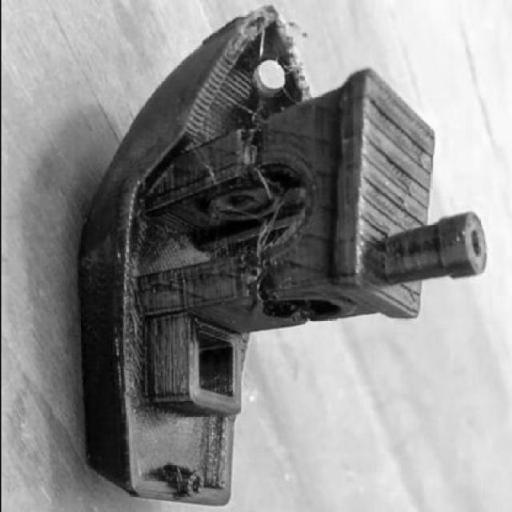spaghetti_and_stringing: (242, 154, 290, 255)
